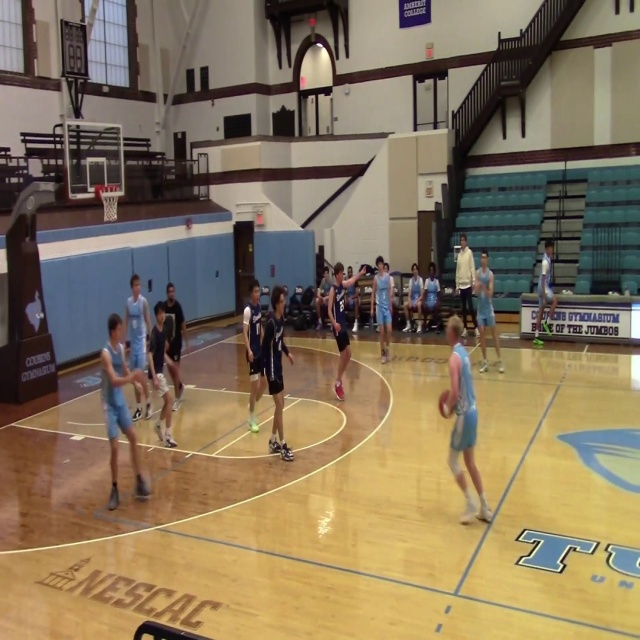Basketball: (438, 389, 457, 418)
